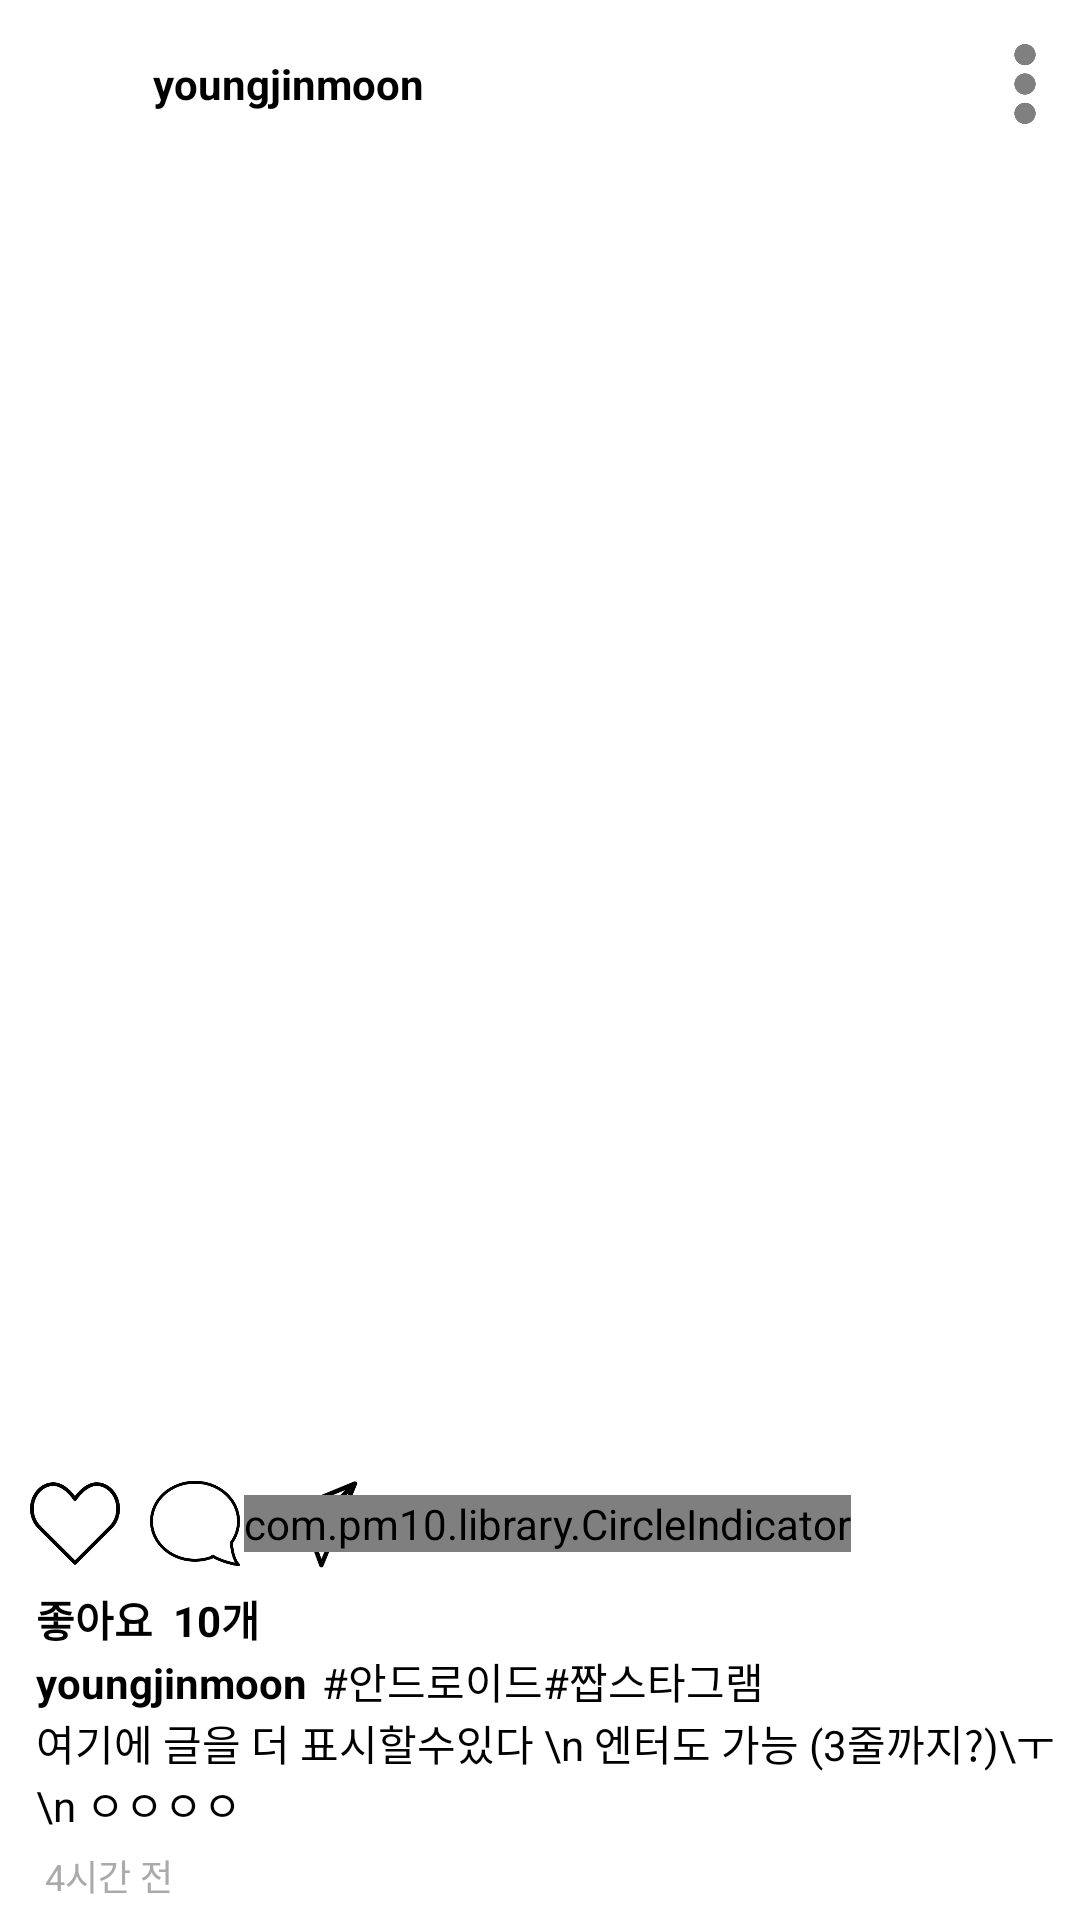

Icons on this 1080px x 1920px Android screen, each with its box as (x1, y1, x2, y2):
comment: (150, 1481, 240, 1566)
heart: (30, 1482, 120, 1565)
more: (1014, 44, 1036, 124)
